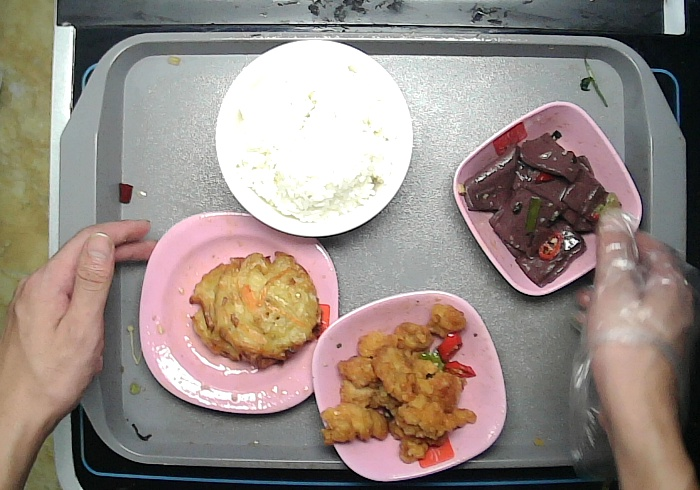SHKJ-Fan_Wan: (208, 31, 415, 240)
SHKJ-Fen_Se_Cai_Die: (293, 284, 515, 479)
SHKJ-Fen_Se_Si_Fang_Cai_Die: (134, 207, 339, 420)
SHKJ-Fen_Se_Xiao_Fang_Die: (450, 98, 647, 302)
